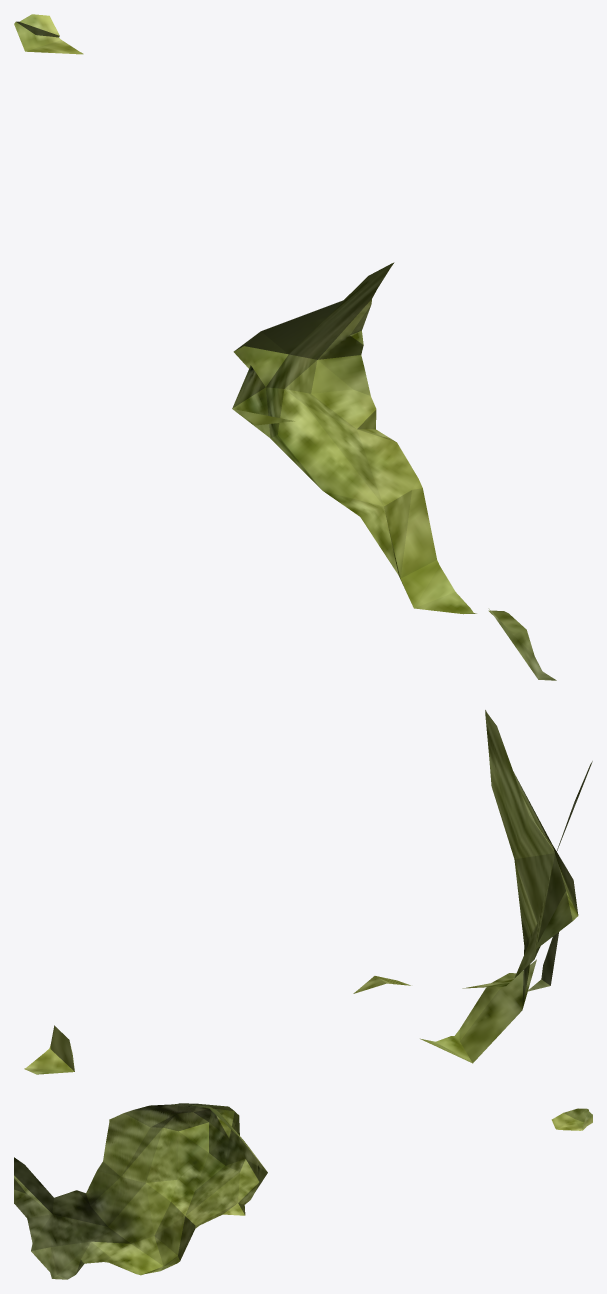
3 views of the same model, one above another, from view 1: azimuth 30°, elevation 25°; view 2: azimuth 150°, elevation 25°; view 3: azimuth 270°, elevation 25° (orthographic). The views are drawn at different scales.
Size of the model in its own units: 0.5574 by 0.9008 by 2.95.
Materials: 1 (1 with a texture image).
